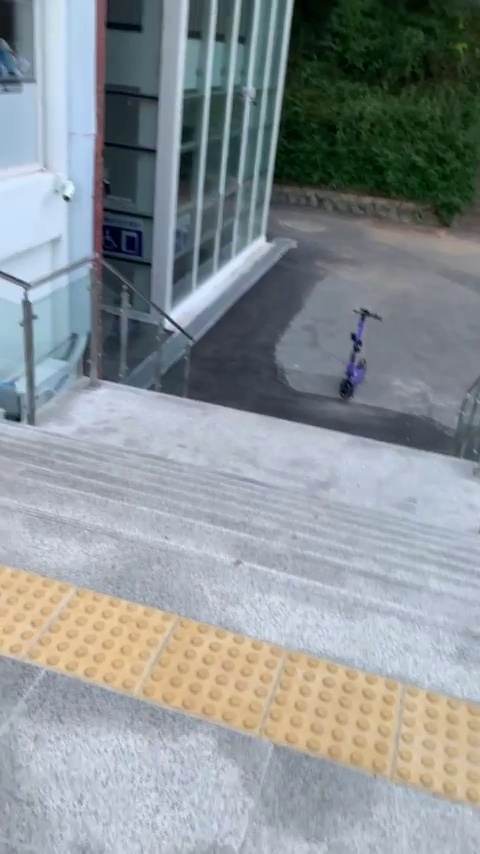beam: (335, 296, 385, 407)
